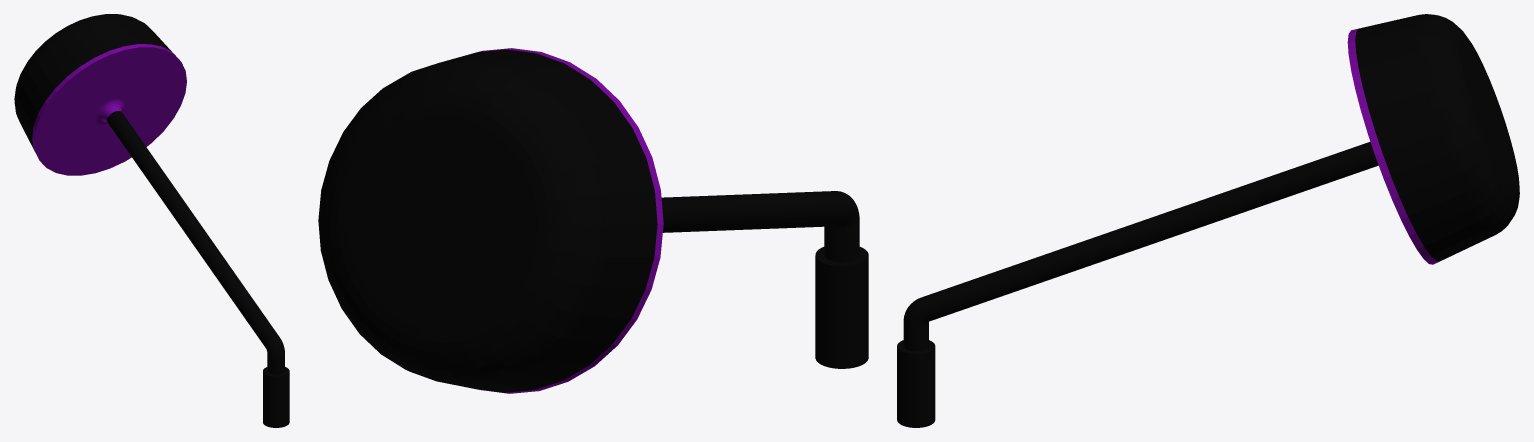
The model's file is AntennaLevel3.fbx.
3 renders of one model, left to right at view 1: azimuth 30°, elevation 25°; view 2: azimuth 150°, elevation 25°; view 3: azimuth 270°, elevation 25°, orthographic. The views are drawn at different scales.
Visible parts, largest first — view 1: AntennaLevel3; view 2: AntennaLevel3; view 3: AntennaLevel3.
Boxes of the visible parts, bbox=[...] form: AntennaLevel3: bbox=[14, 14, 289, 427]; AntennaLevel3: bbox=[318, 48, 868, 393]; AntennaLevel3: bbox=[897, 14, 1519, 427].
Bounding box in the file's own units: 32.88 × 57.65 × 82.44.
